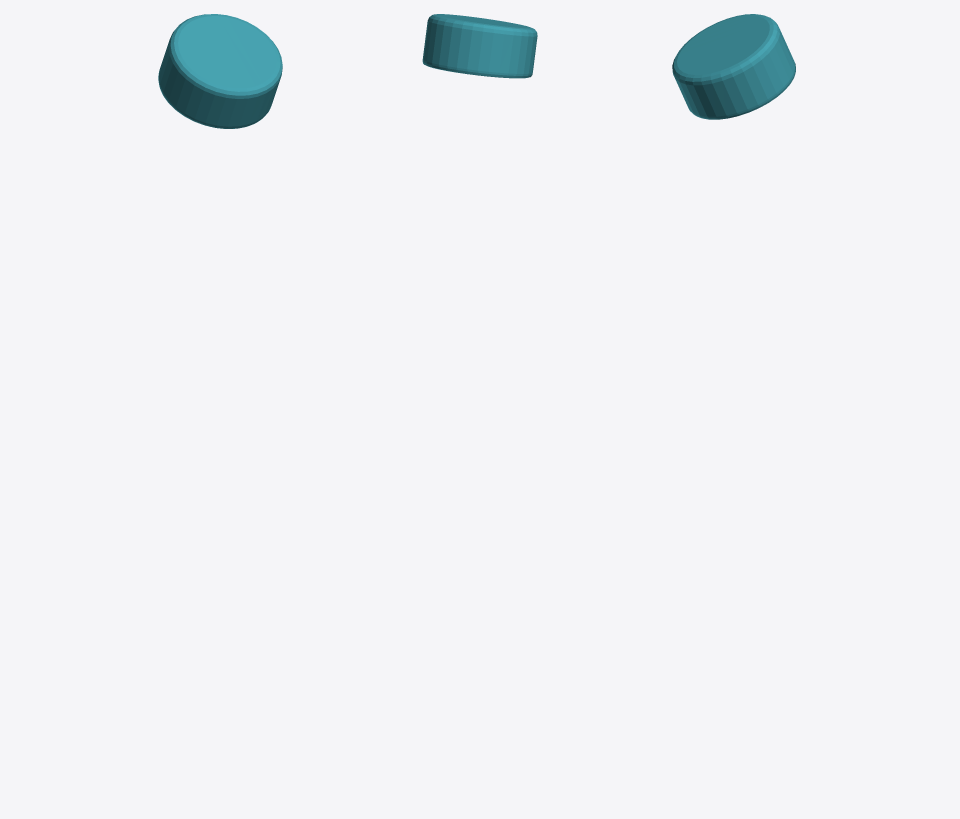
File: bend_medium_0.obj
The picture shows the model from 3 angles, left to right: view 1: azimuth 30°, elevation 25°; view 2: azimuth 150°, elevation 25°; view 3: azimuth 270°, elevation 25°; orthographic projection. The views are drawn at different scales.
Parts seen in each view (by area): view 1: model; view 2: model; view 3: model.
Part boxes in pixels (box(x1,y1,x2,y2)): model: box(158, 14, 282, 128); model: box(422, 14, 537, 78); model: box(672, 14, 795, 119).
Size of the model in its own units: 0.0893 by 0.2548 by 0.0871.
1 material, 1 textured.
